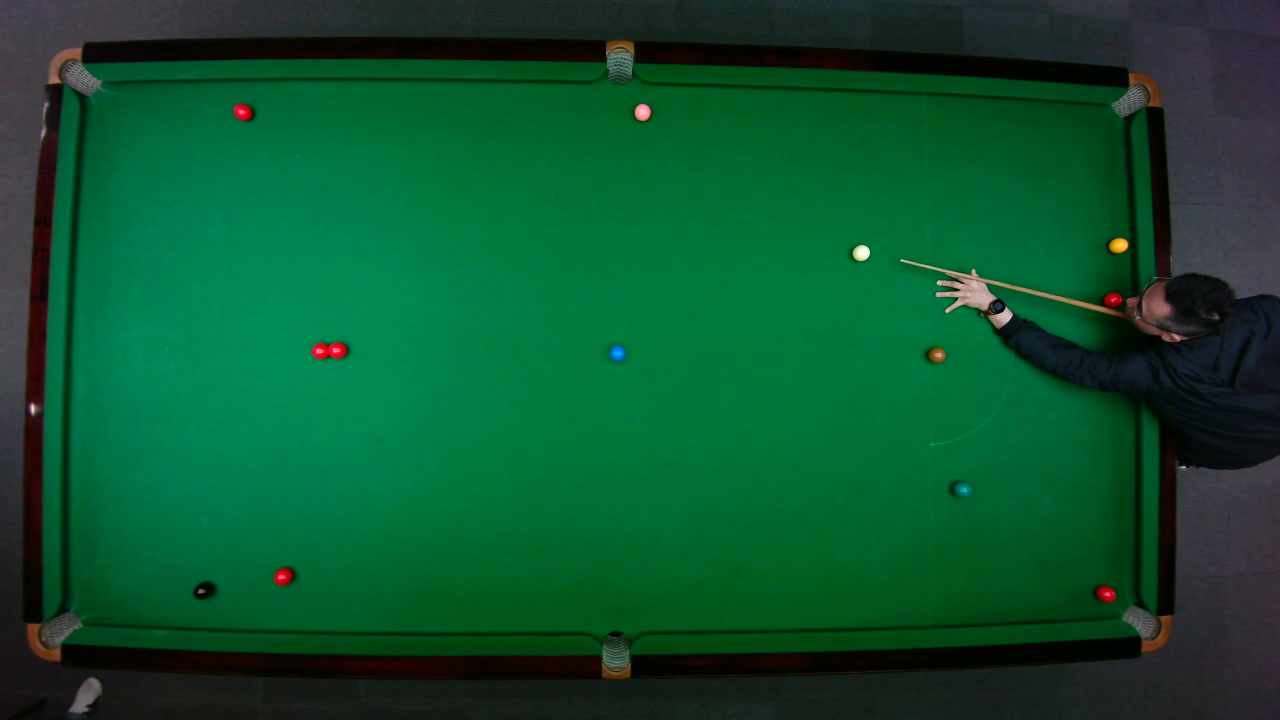bag: (25, 609, 83, 661), (45, 46, 102, 96), (1119, 603, 1172, 652), (1108, 71, 1162, 117), (600, 629, 629, 680), (605, 39, 633, 85)
black: (192, 581, 213, 600)
blue: (607, 344, 626, 361)
brown: (926, 346, 946, 362)
cue: (899, 258, 1126, 335)
green: (951, 480, 972, 497)
pink: (632, 102, 651, 121)
red: (1101, 290, 1124, 309), (325, 340, 347, 359), (272, 566, 294, 585), (1093, 584, 1116, 602), (310, 341, 331, 360), (232, 102, 253, 121)
white: (850, 243, 870, 261)
yellow: (1106, 236, 1129, 253)
zone: (926, 258, 1012, 445)
